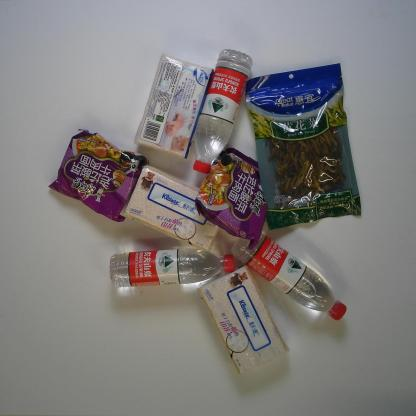Dried Food: (240, 61, 362, 232)
Drink: (230, 230, 350, 324), (191, 47, 253, 176), (108, 247, 234, 291)
Instant Noodles: (44, 126, 146, 226), (193, 142, 267, 242)
Tissue: (198, 265, 292, 380), (123, 165, 221, 254), (134, 53, 214, 159)
